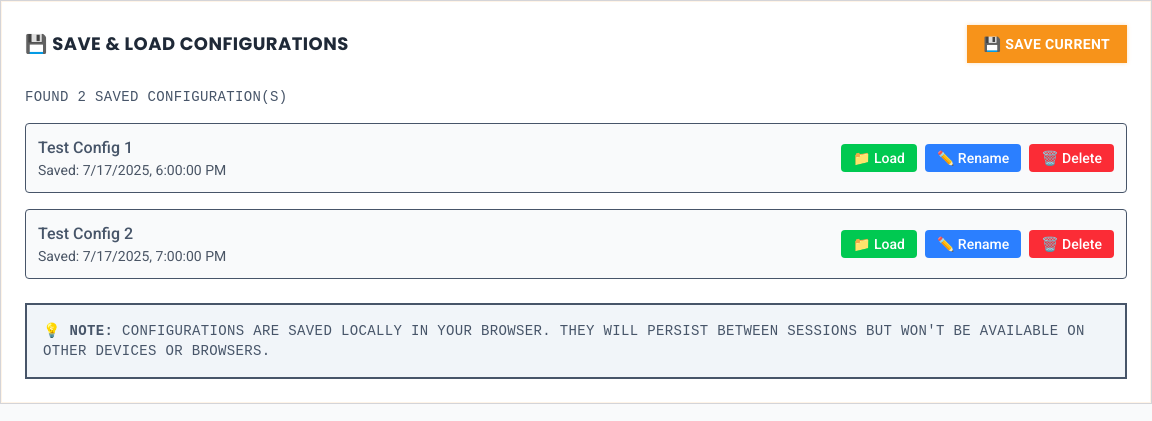
it: SaveLoadSection › should cancel rename operation
# Enter rename mode
Step 1. Click the button "✏️ Rename" in the row of "7/17/2025, 6:00:00 PM" → (973, 158), box [925,144,1021,172]
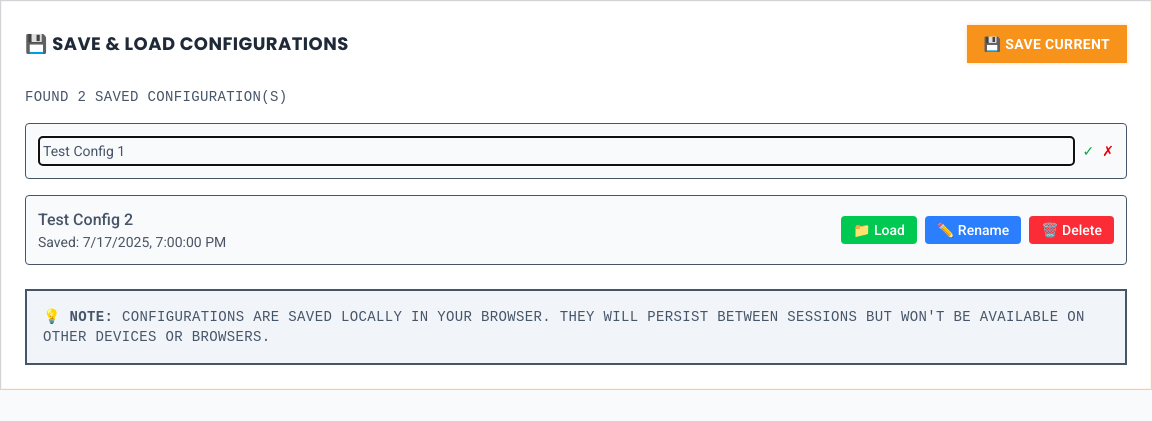
# Change the name
Step 2. Replace the text in the field showing "Test Config 1" with "Changed Name" → (556, 151), box [38,136,1074,166]
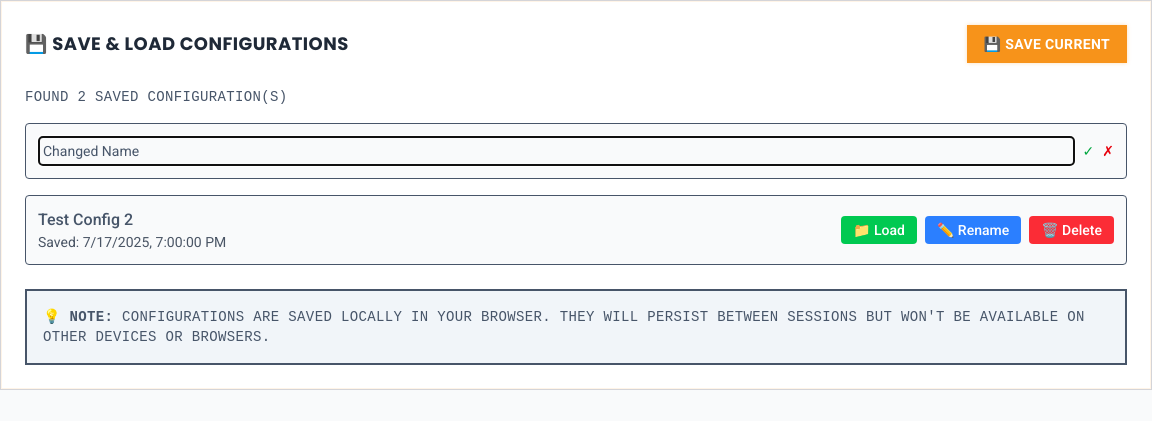
# Cancel rename
Step 3. Click the button "✗" → (1108, 151), box [1102,136,1114,166]
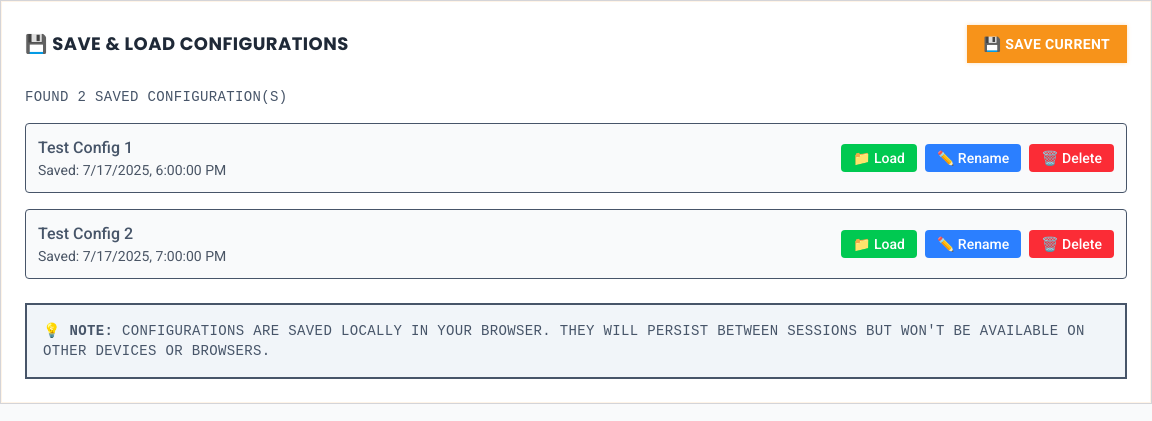
Check: the text "Test Config 1" is shown, box [38,138,133,157]
